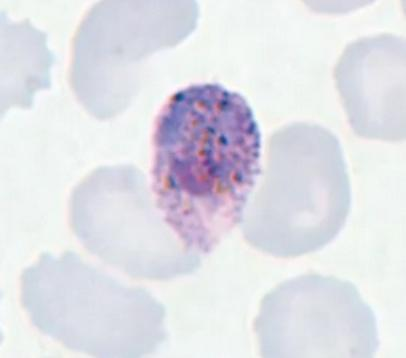Infected: (151, 81, 259, 253)
Uninfected: (67, 160, 202, 280), (18, 251, 168, 358), (67, 0, 197, 120), (237, 123, 350, 258), (252, 272, 379, 358), (333, 35, 406, 143)
